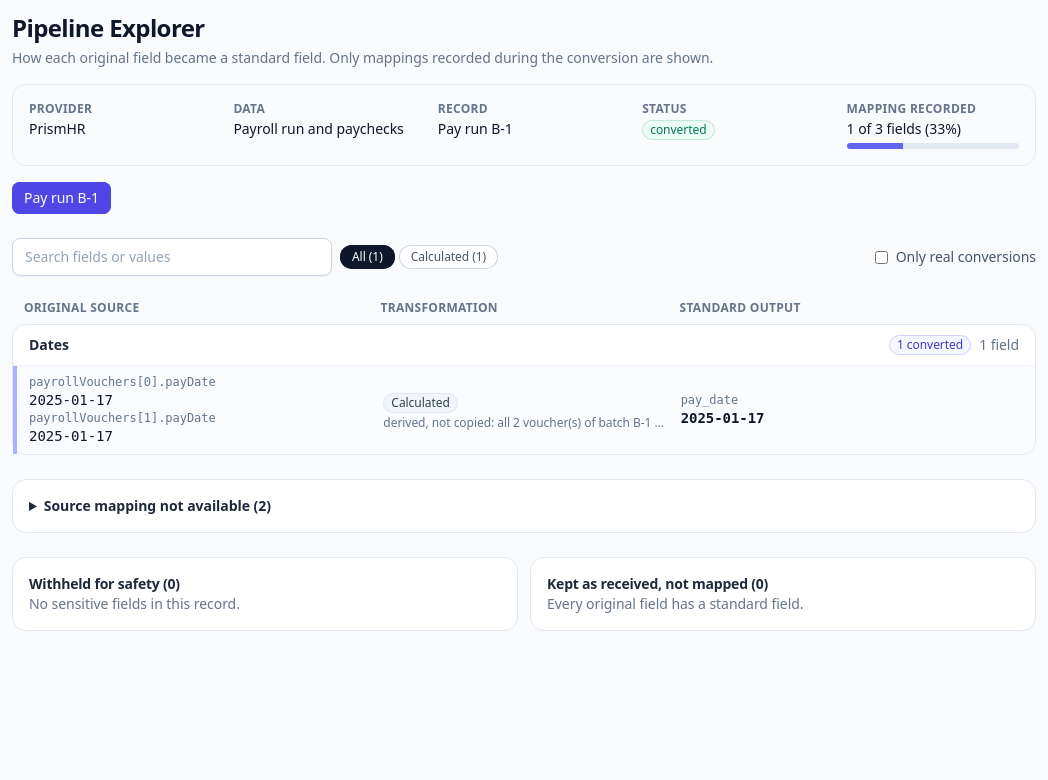
Test: Pipeline Explorer › record types beyond employees › shows a derived run with its real voucher paths and the reason, never a single invented source
Expected: the number of elements with test id "origin" is 1, [29, 375, 216, 444]
Click the button that starts with "payrollVouchers[0].payDate" at (122, 382), box [17, 366, 1035, 454]
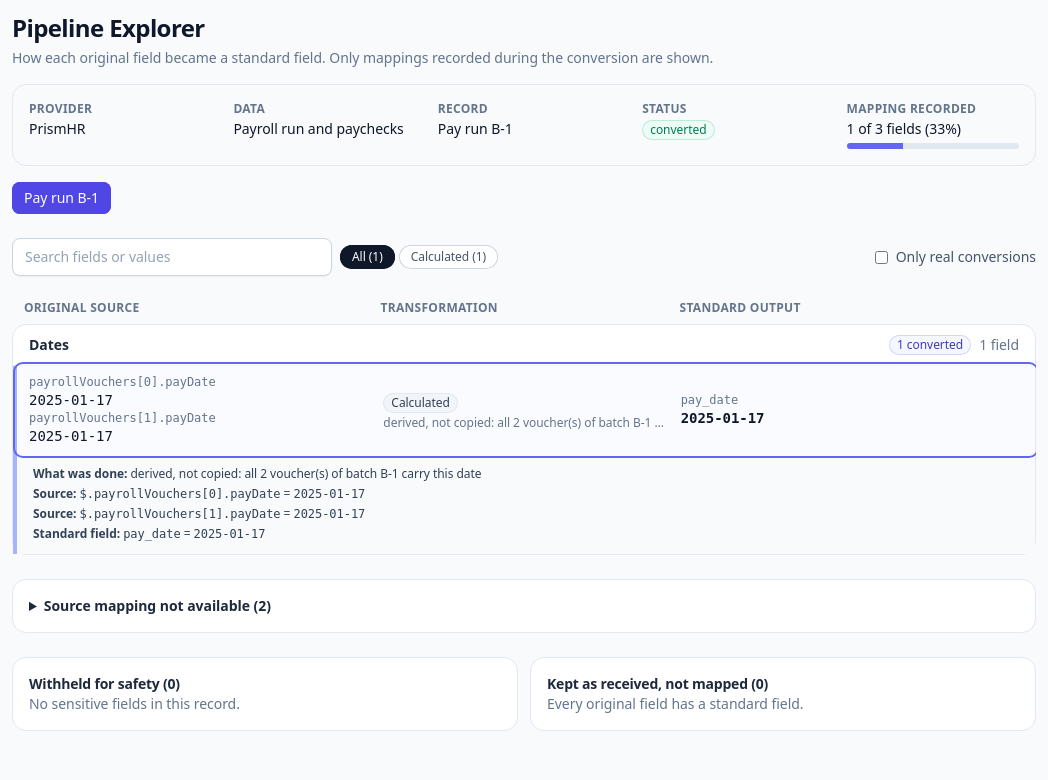
Expected: the element with test id "group-Dates" is shown, [12, 324, 1036, 555]
Now the element with test id "row-details" shows "derived, not copied", box [130, 465, 482, 482]
